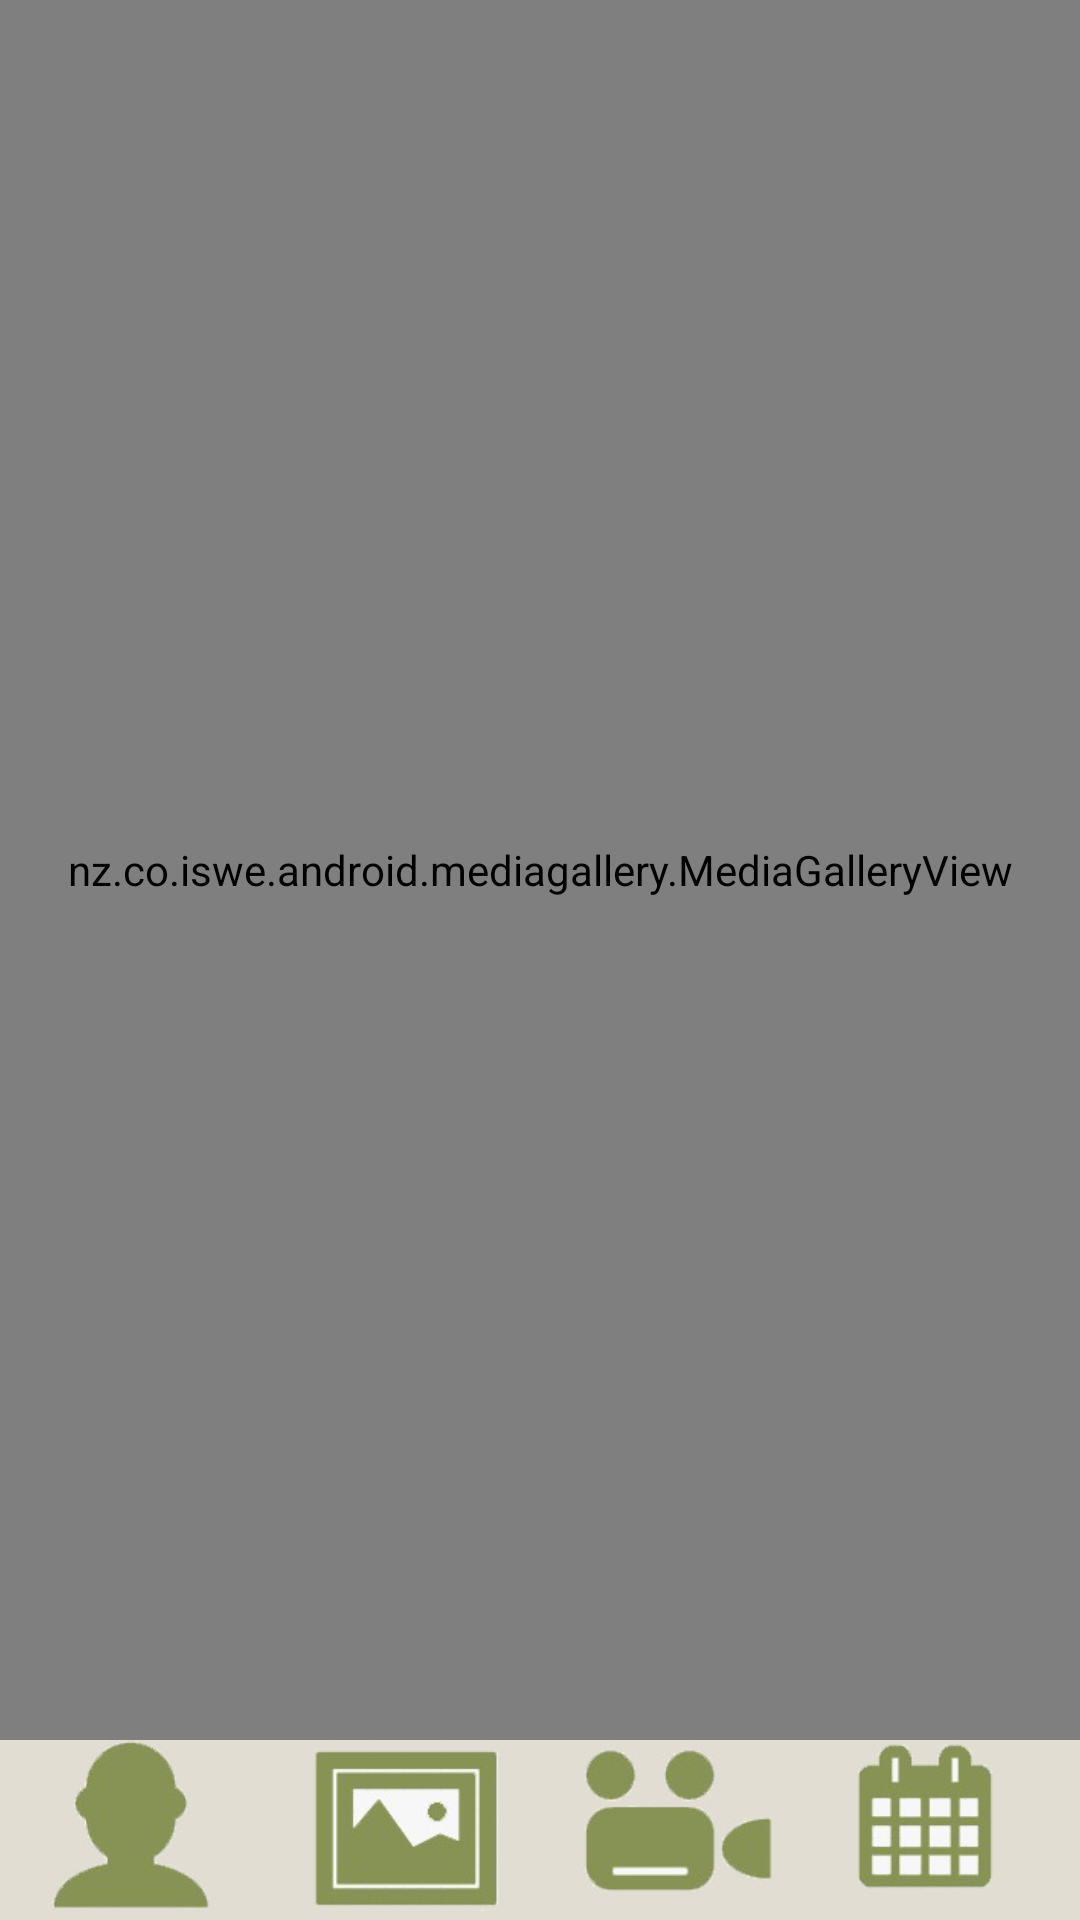

Icon click points for this 1080×1920 phone screenshot, format [x,y]:
memorialevent: [925,1816]
profile: [131,1825]
video: [678,1820]
